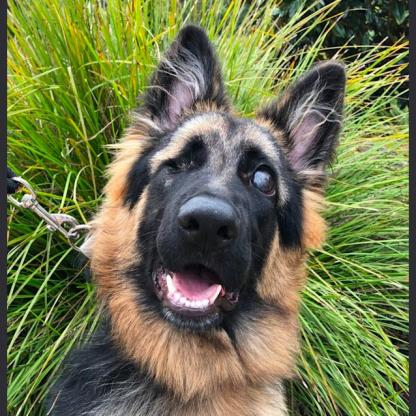german shepherd: (48, 27, 345, 416)
